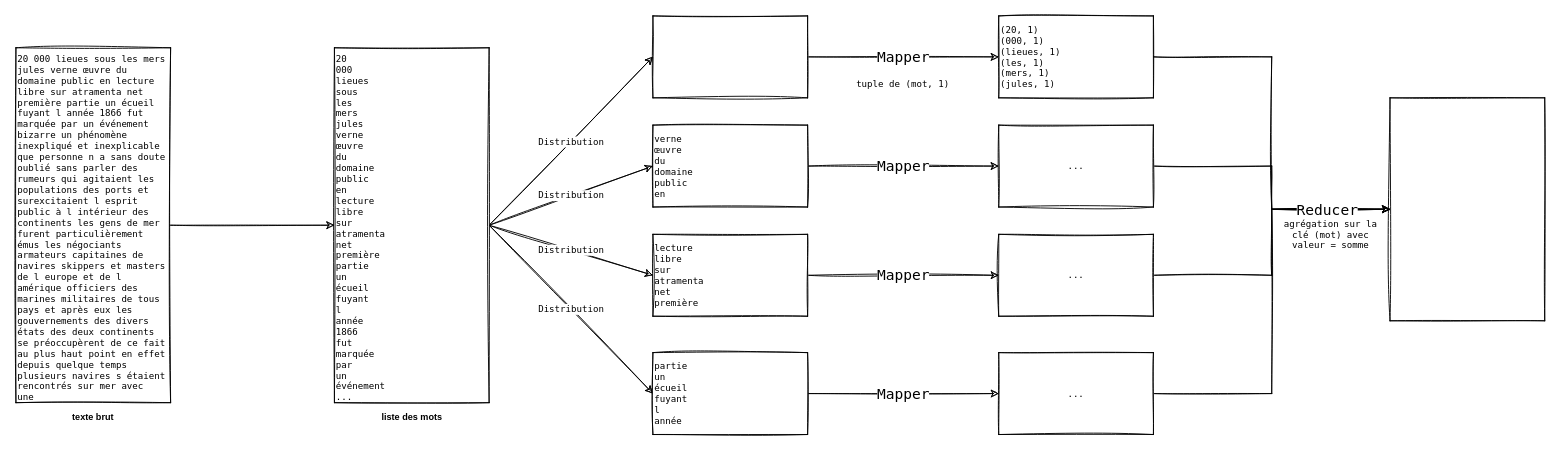
This 1561x450 diagram has some shape labels left out. Here are the shapes that lost their labels. From the top down, the centre of each, then its label:
At [730,56]: "20 000 lieues sous les mers jules".
At [1467,209]: "(20, 1) (000, 1) (lieues, 10) (les, 150) (mers, 61) (jules, 5) ...".
